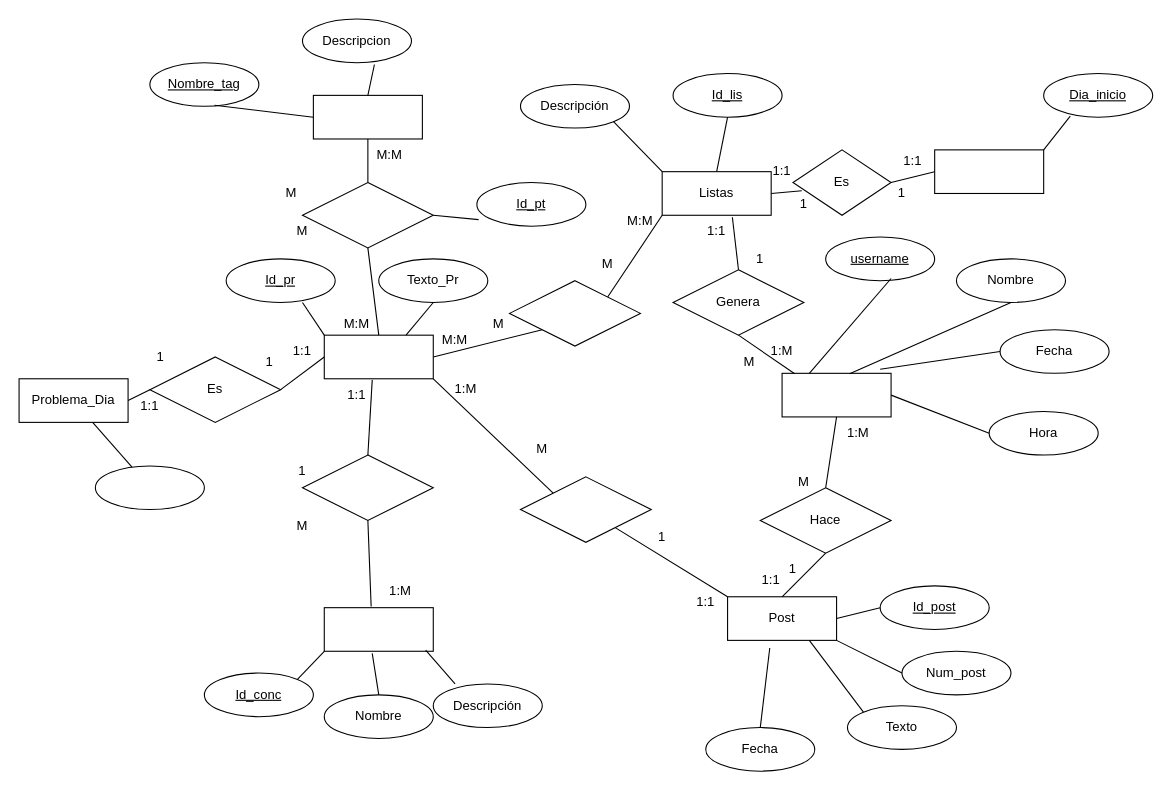
Some shapes in this 1172 by 790 pixel diagram are drawn without their labels. The box of each missing label's shape, as (x1, y1, x2, y2) in pixels:
Concursos: (323, 607, 433, 651)
Dia: (94, 465, 204, 510)
Lista_Semana: (934, 149, 1044, 193)
Prob Principal: (519, 476, 651, 542)
Problemas: (323, 334, 433, 379)
Recopila: (508, 280, 640, 346)
Tags: (312, 94, 422, 139)
Tiene: (301, 181, 433, 248)
Usuario: (781, 372, 891, 417)
Viene: (301, 454, 433, 520)
